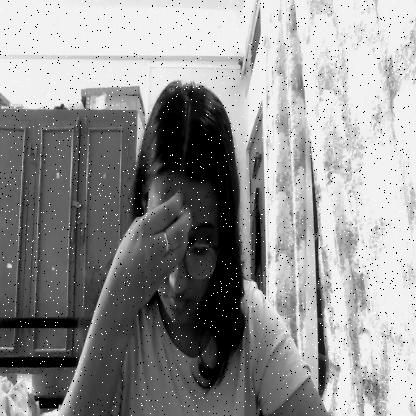Distracted: (145, 163, 217, 323)
